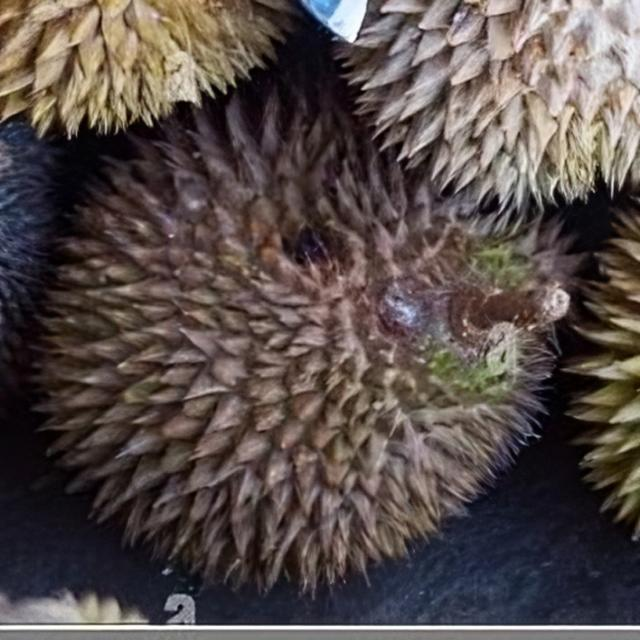defective: (41, 78, 579, 591)
